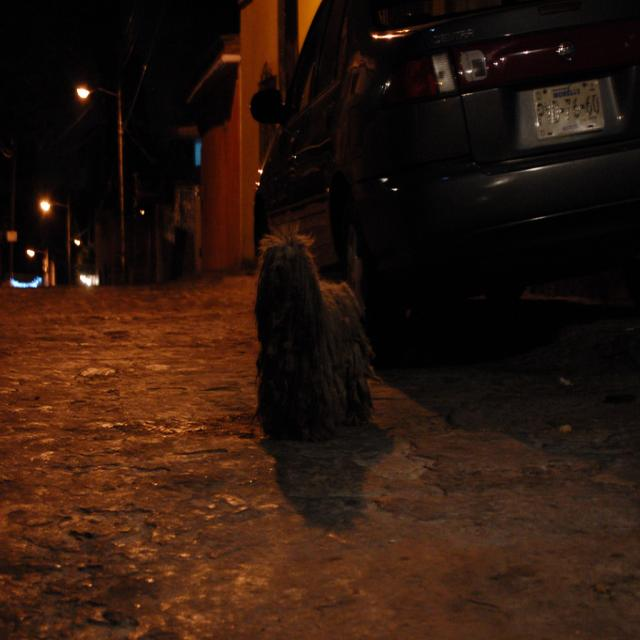Dog: (248, 230, 374, 488)
